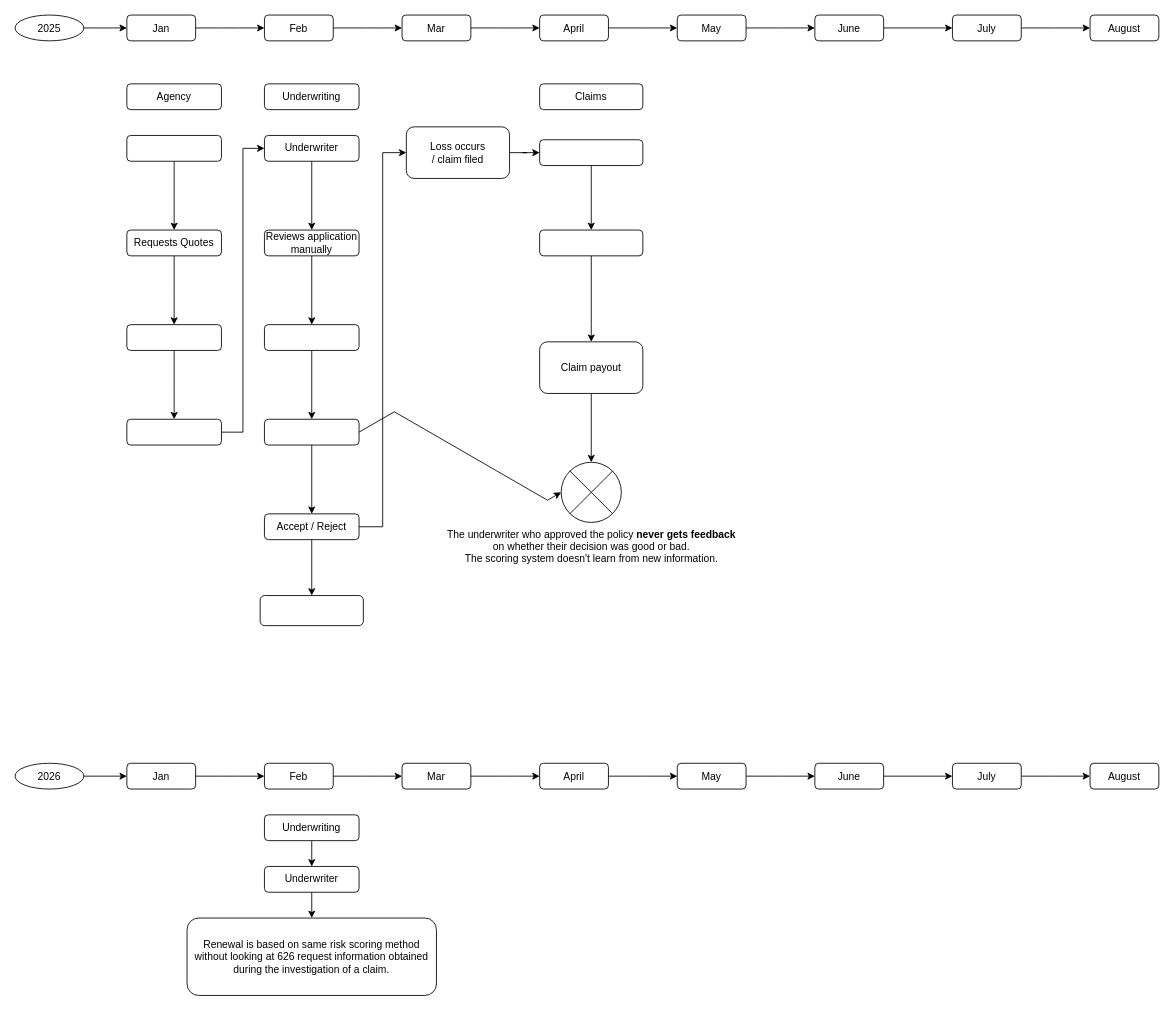
This 1174x1011 diagram has some shape labels left out. Here are the shapes that lost their labels. From the top down, the centre of each, then its label:
At point 173,148: "Agent".
At point 591,152: "Claim Adjuster".
At point 591,242: "Claim Investigation".
At point 173,337: "Customer chooses InsureCo".
At point 311,337: "Checks risk guidelines".
At point 173,431: "Agent submits application".
At point 311,431: "Risk Score".
At point 311,610: "Policy issued / in force".
